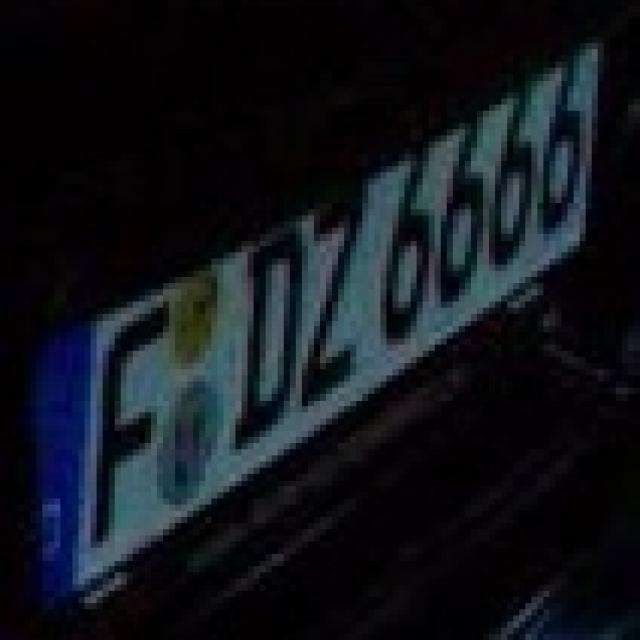licenseplate: (14, 9, 606, 640)
